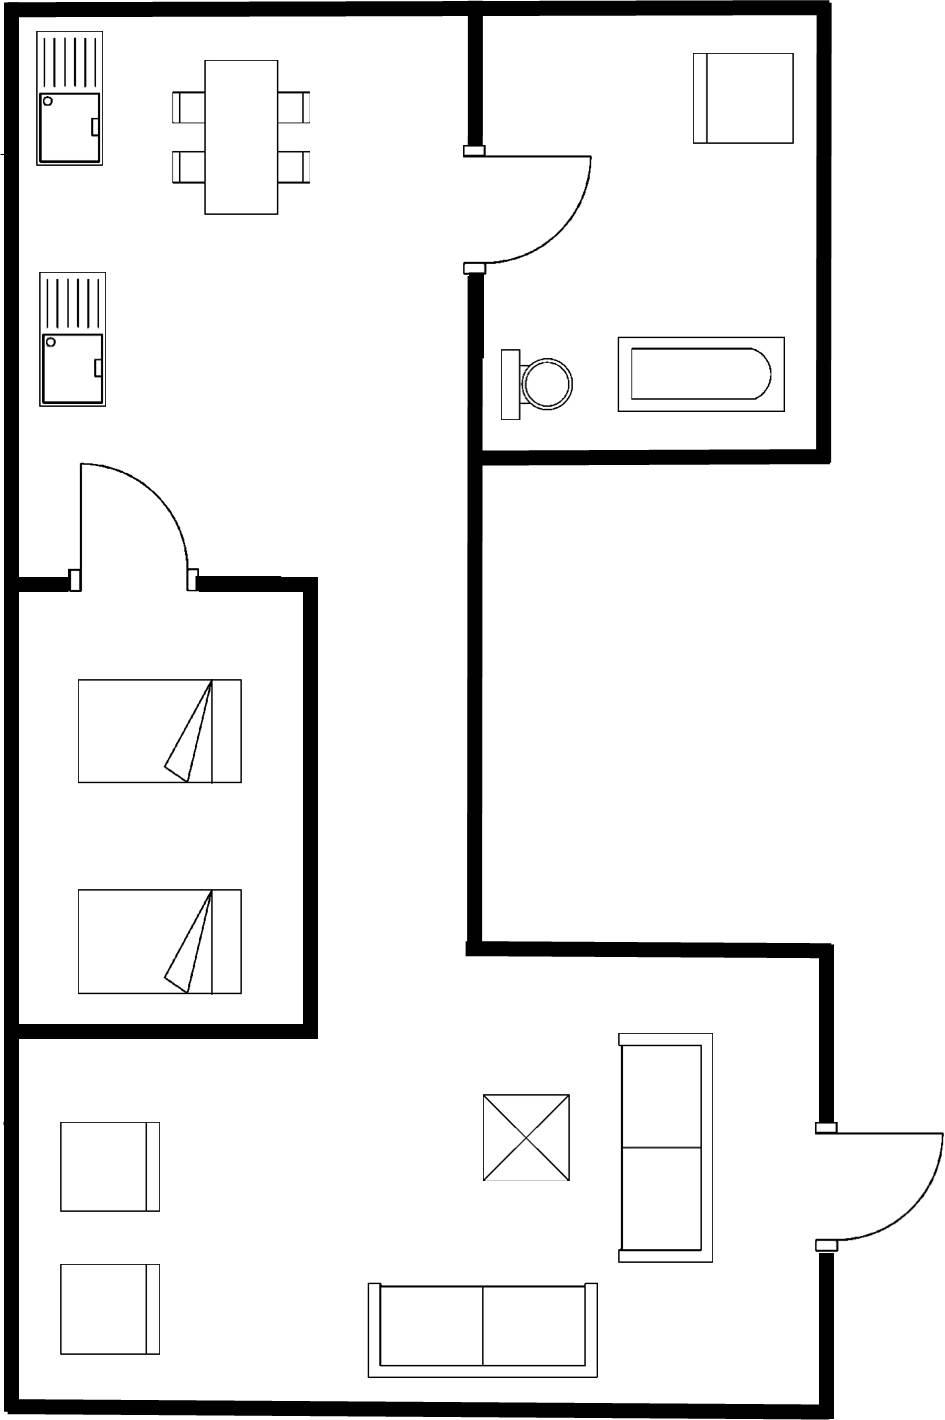bed: (71, 881, 248, 1003), (69, 673, 248, 789)
dining_table: (161, 48, 322, 223)
sink: (28, 266, 115, 413), (28, 24, 111, 177)
sofa: (607, 1024, 721, 1271), (359, 1275, 605, 1384)
toilet: (489, 341, 579, 431)
tub: (607, 330, 794, 419)
